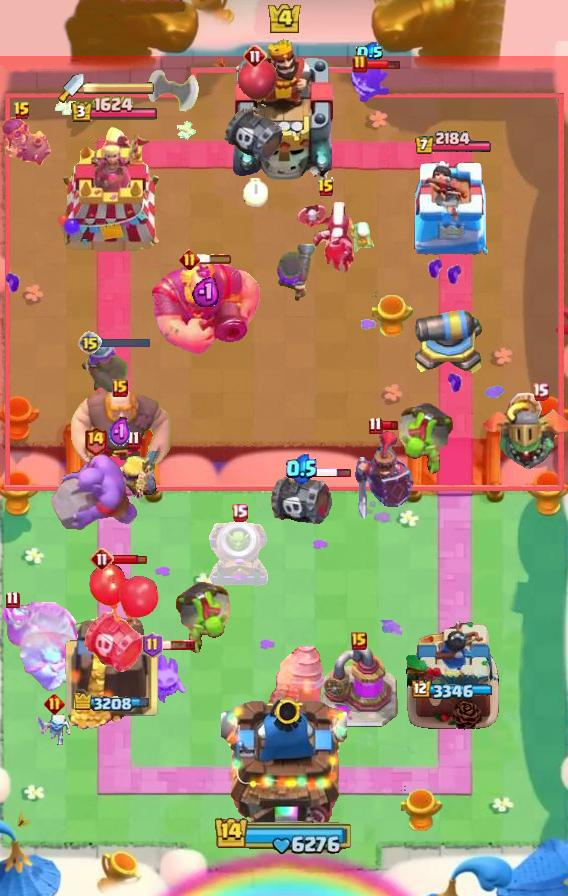archer-queen: (47, 453, 143, 533)
arrows: (106, 451, 160, 501)
balloon: (66, 387, 174, 479)
bar: (55, 126, 173, 256)
bar-level: (396, 398, 456, 474), (173, 577, 233, 653)
bomb-tower: (80, 339, 128, 401), (274, 242, 318, 302)
clock: (214, 815, 354, 855)
electro-spirit: (287, 452, 317, 483), (193, 275, 219, 307), (109, 416, 131, 448), (356, 42, 384, 63)
elixir: (243, 178, 268, 207)
elixir-golem-big: (353, 429, 415, 523)
emote: (297, 466, 352, 479), (99, 337, 151, 349), (365, 58, 401, 71), (197, 253, 233, 265), (160, 639, 196, 651), (112, 553, 147, 565), (381, 420, 400, 431)
goblin-ball: (0, 115, 52, 169)
goblin-cage: (207, 519, 271, 589)
heal-spirit: (35, 713, 73, 749), (344, 216, 378, 252)
king-tower: (221, 690, 347, 826), (228, 35, 340, 181)
king-tower-bar: (84, 81, 156, 95)
lava-hound: (0, 598, 82, 694)
lightning: (149, 260, 263, 356)
magic-archer: (266, 645, 326, 737)
mirror: (145, 650, 189, 704)
night-witch: (478, 391, 568, 471)
pekka: (320, 647, 398, 729)
queen-tower: (62, 613, 165, 731), (404, 617, 502, 731), (407, 158, 499, 256)
rascal-boy: (295, 202, 357, 274)
royal-giant: (147, 70, 199, 130)
royal-recruit: (414, 295, 486, 379)
royal-recruit-evolution: (80, 562, 160, 676), (222, 58, 288, 162), (270, 471, 332, 527)
selected: (69, 96, 158, 124), (414, 131, 494, 156), (73, 693, 154, 715), (413, 679, 496, 700)
spear-goblin: (349, 62, 391, 102)
text: (83, 424, 108, 455), (243, 44, 267, 68), (78, 331, 102, 355), (90, 547, 114, 571), (142, 632, 163, 658), (179, 250, 201, 271), (43, 693, 64, 714), (13, 101, 31, 121), (317, 178, 335, 198), (231, 503, 248, 522), (352, 54, 368, 74), (531, 383, 548, 401), (112, 379, 128, 397), (351, 632, 367, 650), (126, 430, 141, 449), (5, 591, 20, 609), (369, 416, 383, 435)
